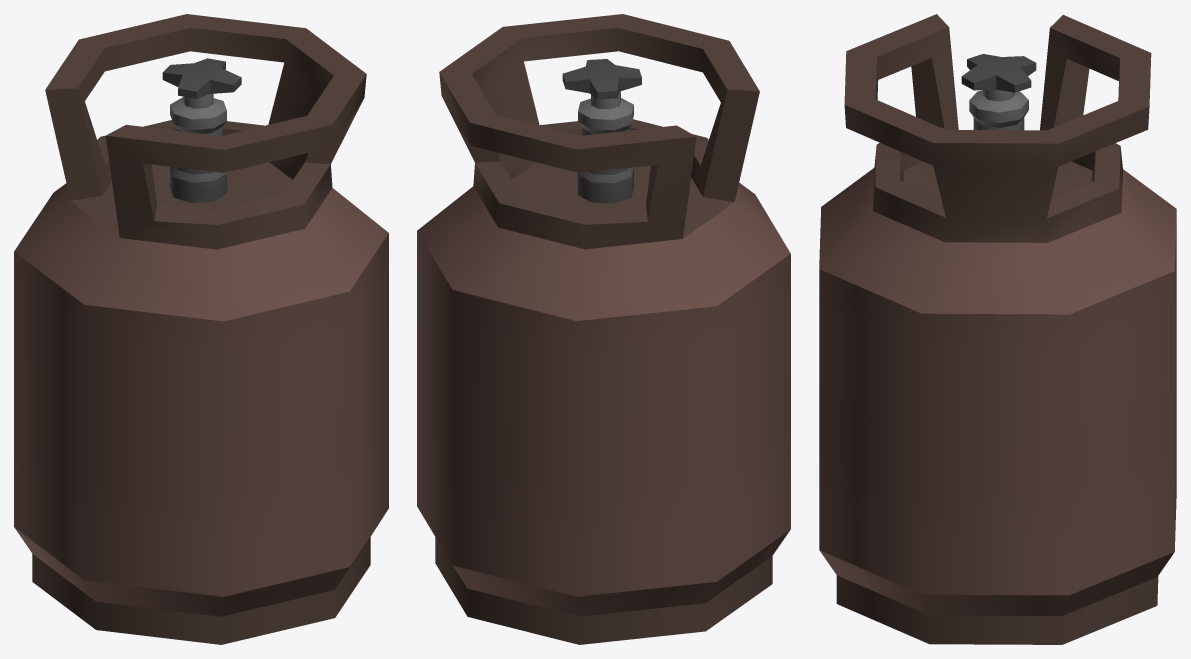
Rendered from GasCylinder_2_2.fbx.
The picture shows the model from 3 angles, left to right: view 1: azimuth 30°, elevation 25°; view 2: azimuth 150°, elevation 25°; view 3: azimuth 270°, elevation 25°; orthographic projection.
Parts seen in each view (by area): view 1: GasCylinder_2_2; view 2: GasCylinder_2_2; view 3: GasCylinder_2_2.
Boxes of the visible parts, x1,y1,x2,y2 form: GasCylinder_2_2: [14, 14, 388, 644]; GasCylinder_2_2: [417, 14, 790, 644]; GasCylinder_2_2: [819, 14, 1176, 644].
Bounding box in the file's own units: 38.47 × 60.7 × 38.47.
